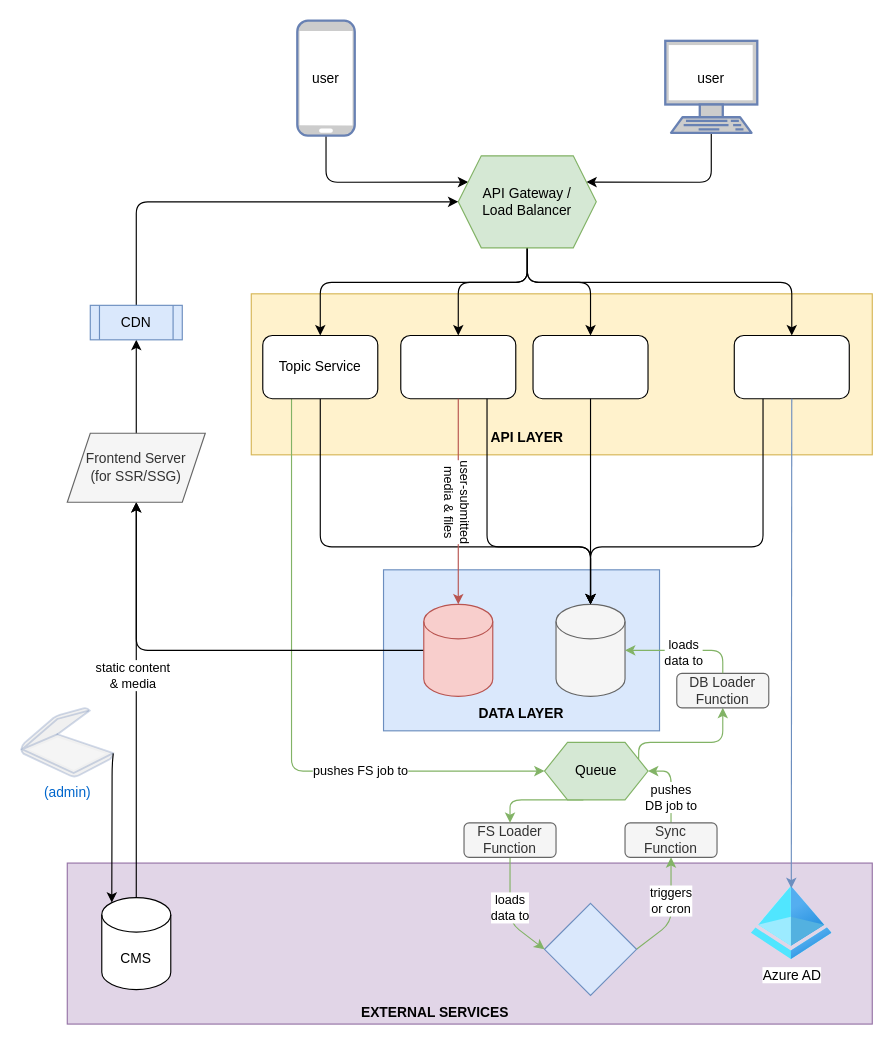
Some shapes in this 892 by 1050 pixel diagram are drawn without their labels. Each missing label, with the box of its shape:
Attachment Service: (400, 334, 516, 399)
Auth Service: (733, 334, 849, 399)
Forum Service: (543, 902, 637, 995)
Object Storage: (423, 603, 493, 696)
Relational DB: (555, 603, 625, 696)
User Service: (532, 334, 648, 399)
